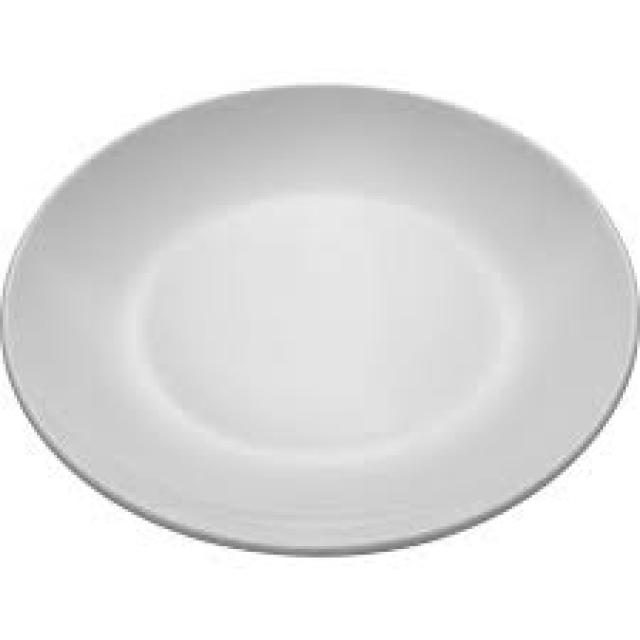dish: (3, 40, 640, 572)
